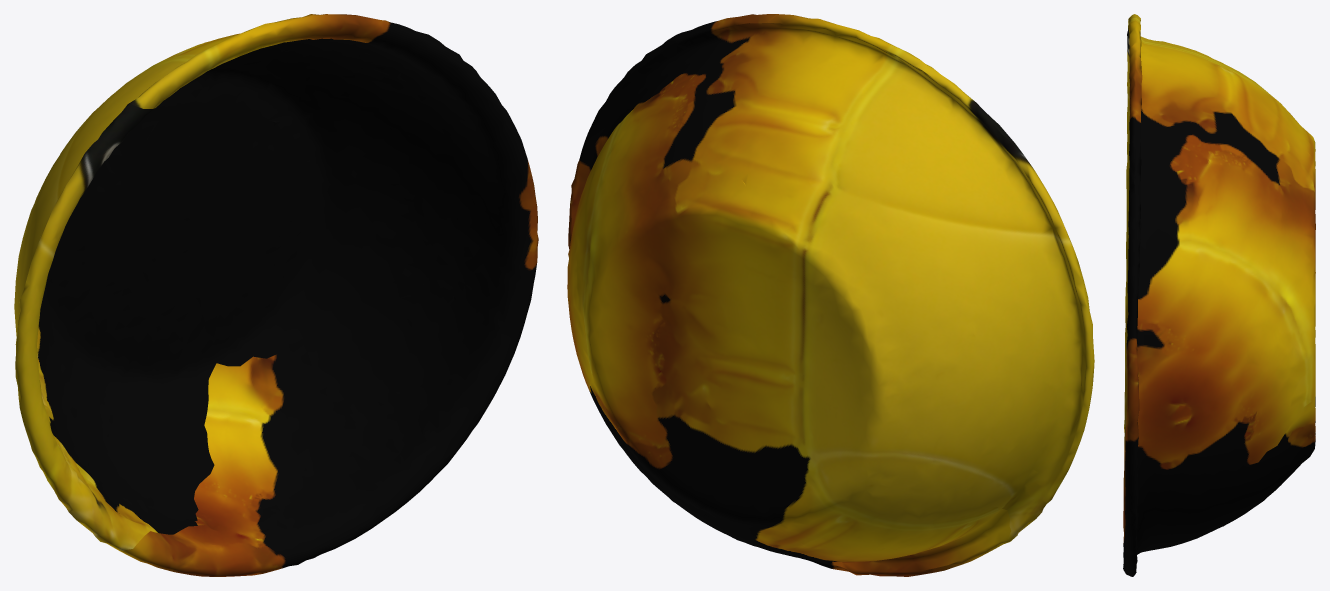
3 views of the same model, side by side, from view 1: azimuth 30°, elevation 25°; view 2: azimuth 150°, elevation 25°; view 3: azimuth 270°, elevation 25° (orthographic). The views are drawn at different scales.
Size of the model in its own units: 0.1615 by 0.1612 by 0.055.
